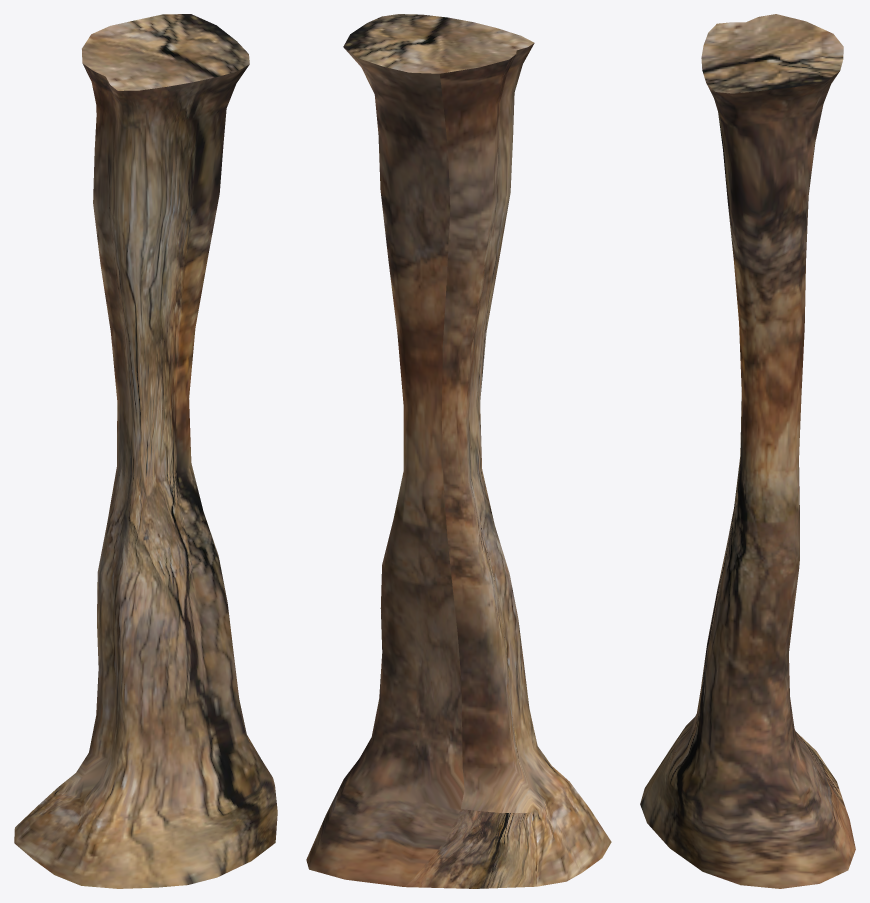
Rendered from rockformation4.obj.
3 renders of one model, left to right at view 1: azimuth 30°, elevation 25°; view 2: azimuth 150°, elevation 25°; view 3: azimuth 270°, elevation 25°, orthographic. The views are drawn at different scales.
Parts seen in each view (by area): view 1: rockformation4; view 2: rockformation4; view 3: rockformation4.
Boxes of the visible parts, x1,y1,x2,y2 form: rockformation4: (14, 14, 277, 888); rockformation4: (306, 14, 611, 888); rockformation4: (640, 14, 855, 888).
Size of the model in its own units: 102 by 328 by 81.34.
Materials: 1 (1 with a texture image).
